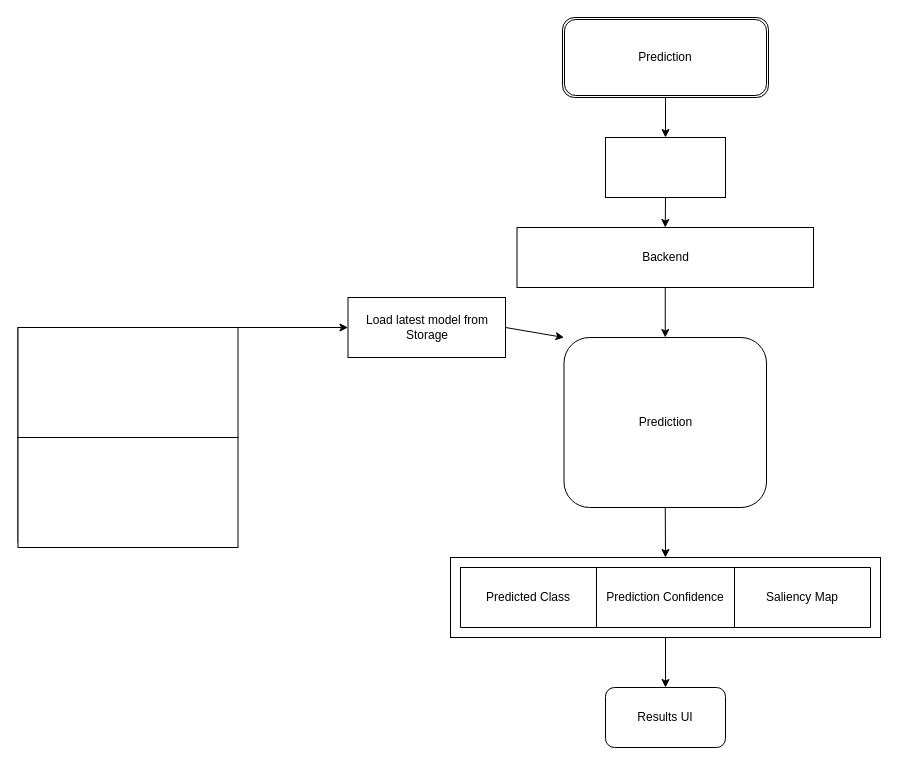
Some shapes in this 898 by 765 pixel diagram are drawn without their labels. Here are the shapes that lost their labels. From the top down, the centre of each, then its label:
At (665,167): "Upload image".
At (127,382): "Storage".
At (127,492): "Database".
